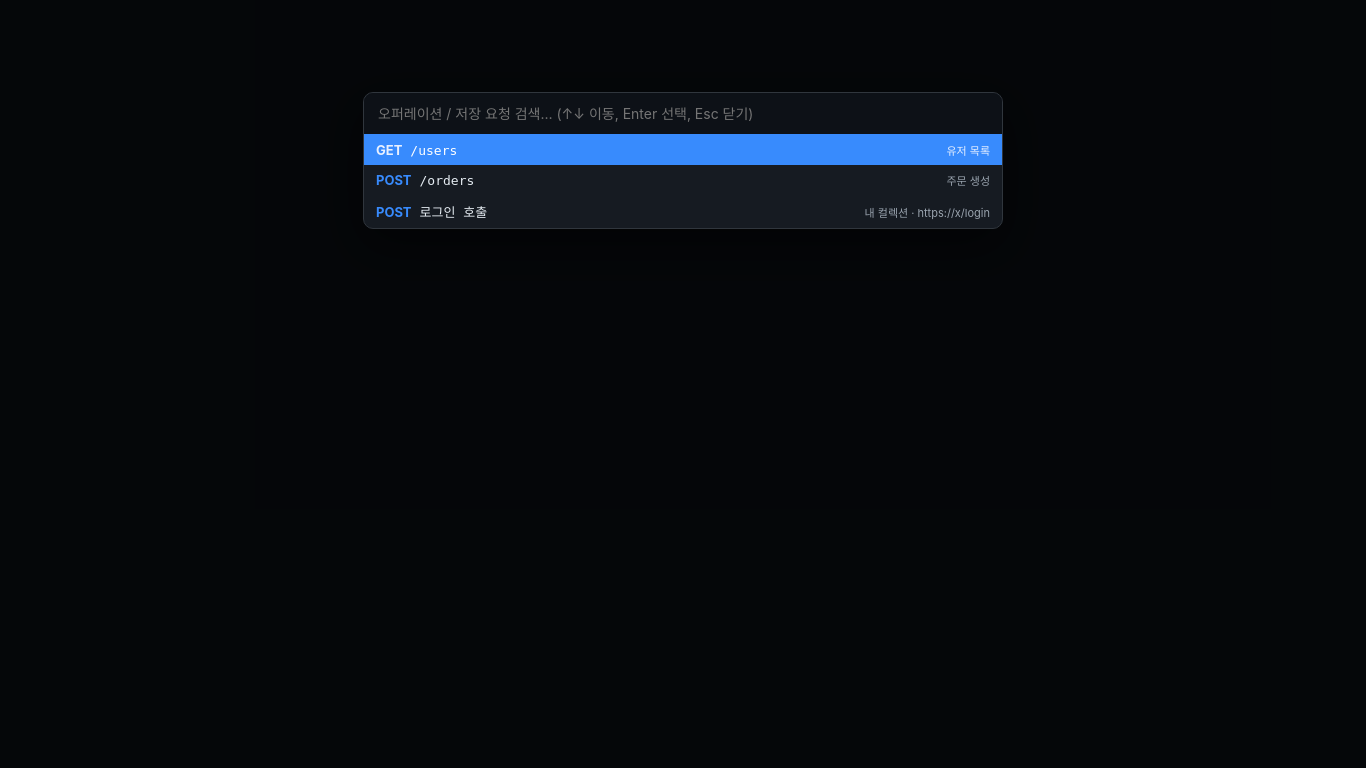
Test: CommandPalette › 결과가 없으면 '결과 없음'
Type "zzzzz" into the field.
click(683, 114); type("zzzzz")  # box [364,93,1002,135]
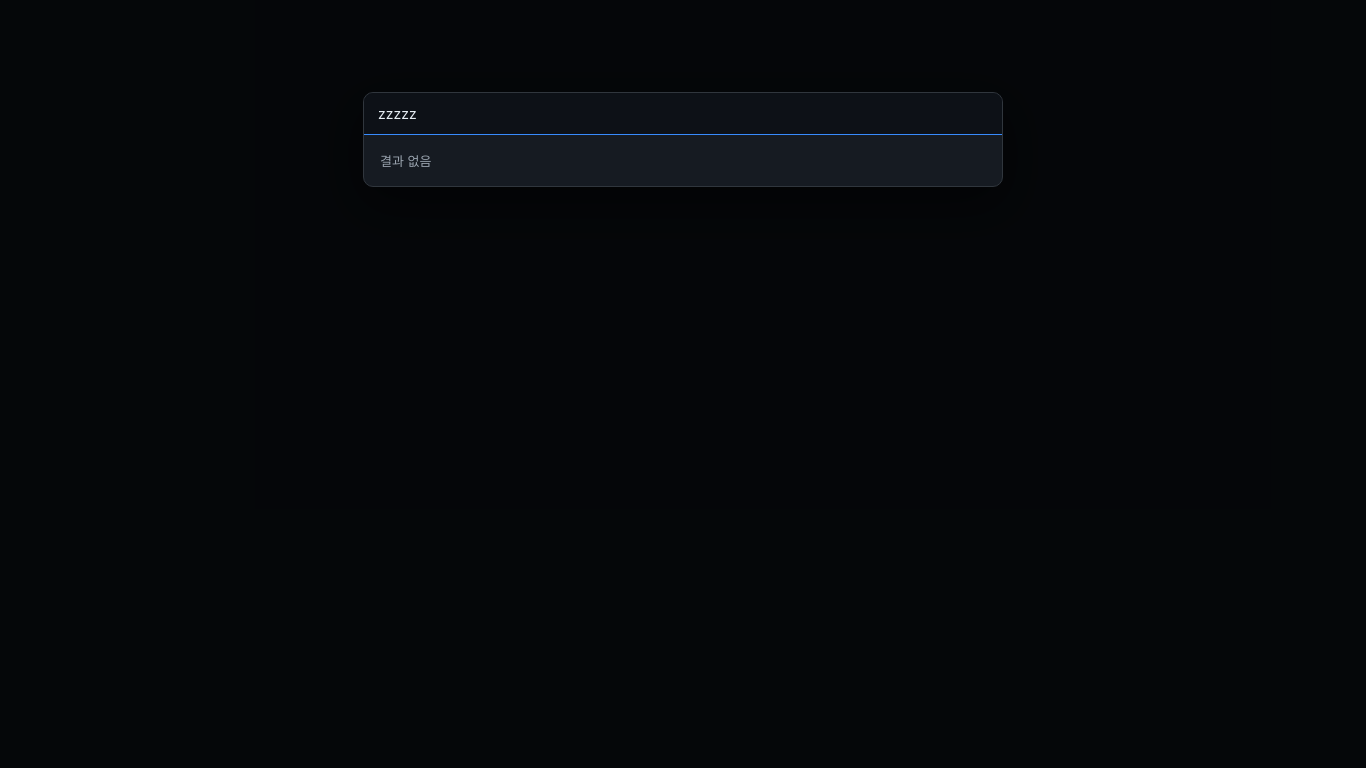
Result: the text "결과 없음" is shown at [380,153,432,169]
